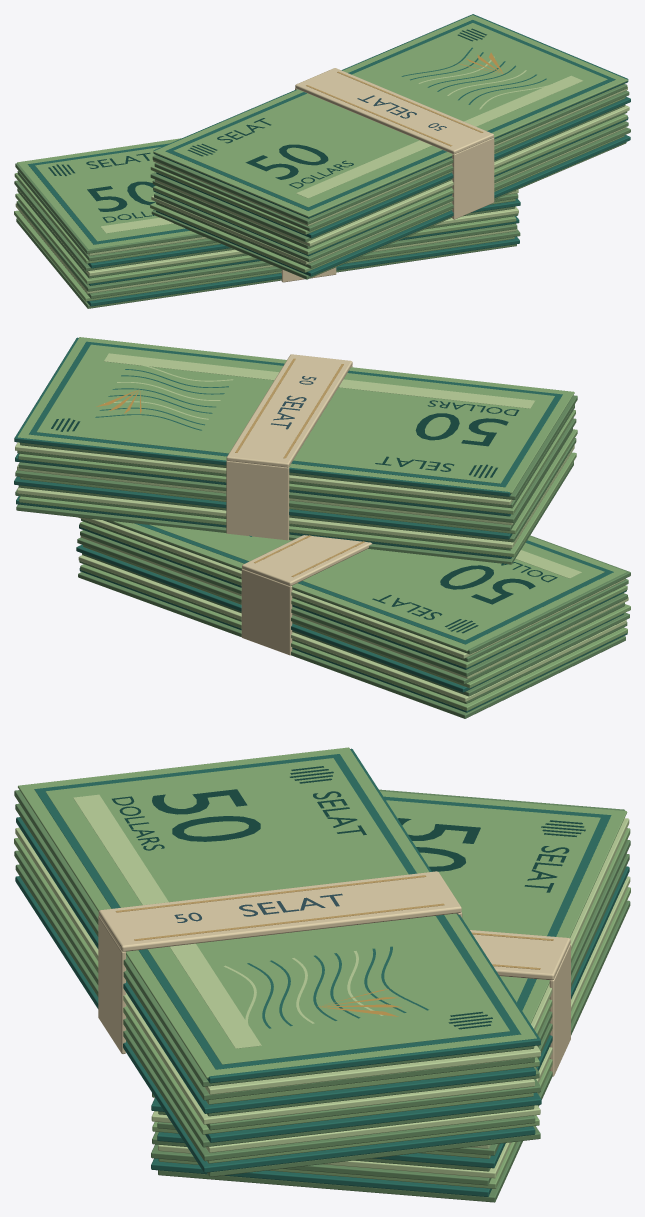
The picture shows the model from 3 angles, top to bottom: view 1: azimuth 30°, elevation 25°; view 2: azimuth 150°, elevation 25°; view 3: azimuth 270°, elevation 25°; orthographic projection. The views are drawn at different scales.
Parts seen in each view (by area): view 1: Note Bundles, Security Print, Bundle Straps; view 2: Note Bundles, Security Print, Bundle Straps; view 3: Security Print, Note Bundles, Bundle Straps.
Boxes of the visible parts, x1,y1,x2,y2 form: Note Bundles: (14, 14, 630, 308); Security Print: (28, 20, 615, 244); Bundle Straps: (281, 68, 494, 282); Note Bundles: (14, 337, 630, 718); Security Print: (29, 341, 613, 644); Bundle Straps: (226, 354, 372, 655); Security Print: (34, 754, 611, 1069); Note Bundles: (14, 747, 630, 1202); Bundle Straps: (98, 871, 570, 1076).
Bounding box in the file's own units: 0.2078 × 0.0497 × 0.1363.
